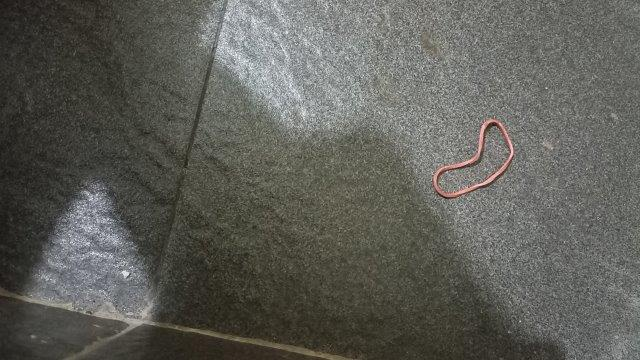karet: (433, 118, 514, 199)
